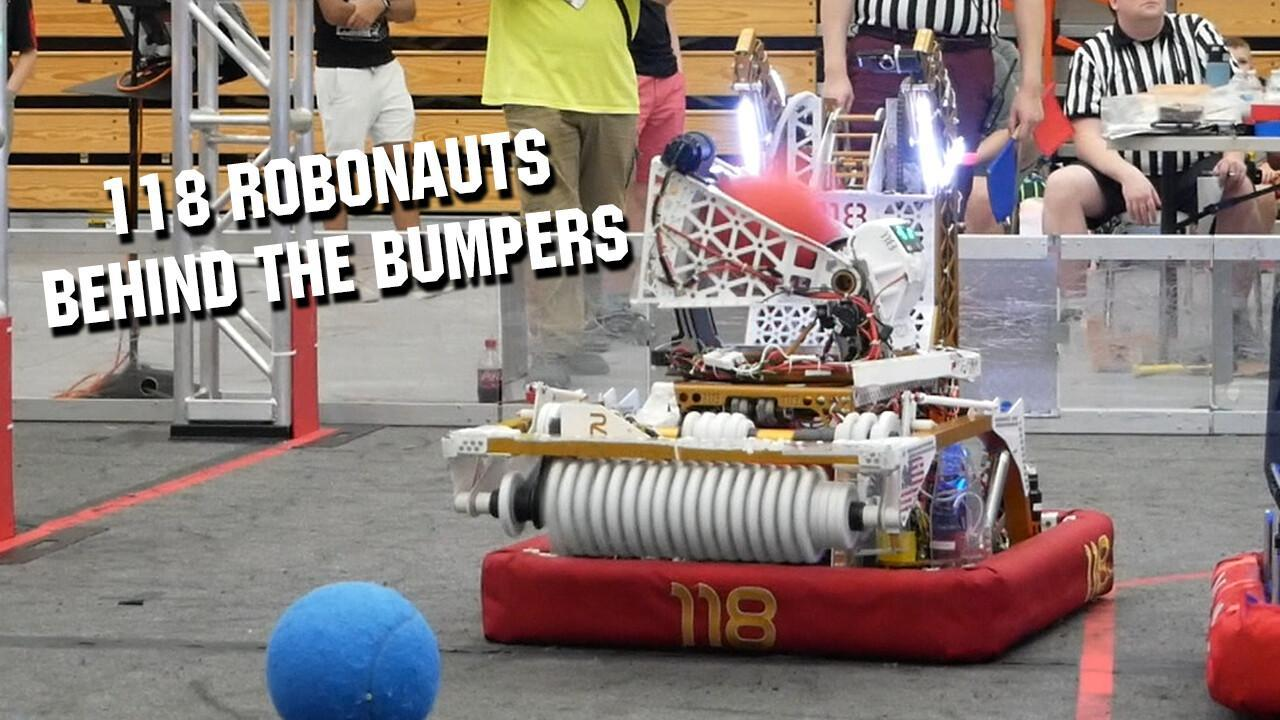robot: (437, 18, 1126, 672), (1188, 235, 1280, 720)
